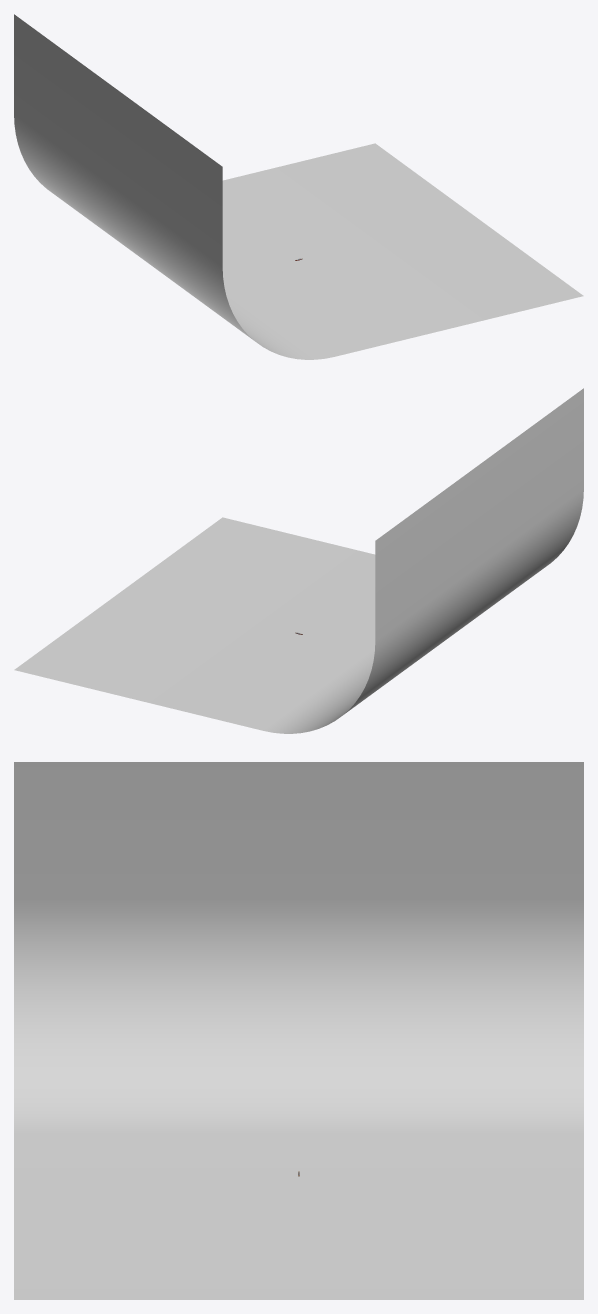
The model's file is кеме.gltf.
3 renders of one model, top to bottom at view 1: azimuth 30°, elevation 25°; view 2: azimuth 150°, elevation 25°; view 3: azimuth 270°, elevation 25°, orthographic. The views are drawn at different scales.
Parts seen in each view (by area): view 1: Plane; view 2: Plane; view 3: Plane.
Boxes of the visible parts, x1,y1,x2,y2 form: Plane: (14,14,583,359); Plane: (14,388,583,733); Plane: (14,762,583,1299).
Size of the model in its own units: 118 by 67.83 by 118.
2 materials, 1 textured.
